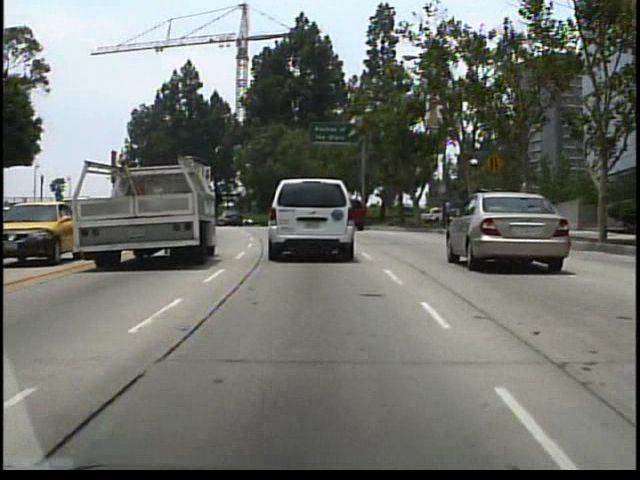person: (446, 194, 452, 228)
